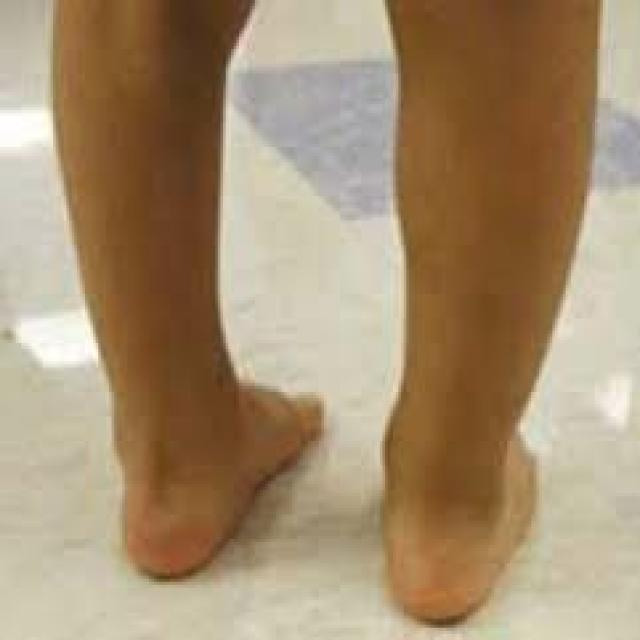Normal: (34, 32, 594, 393)
